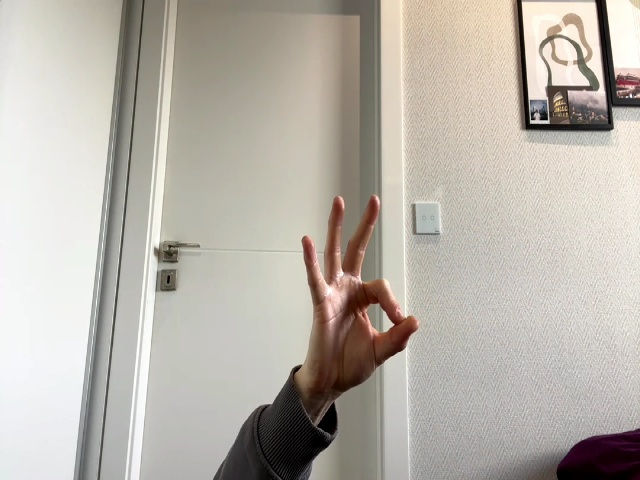O: (301, 194, 419, 380)
